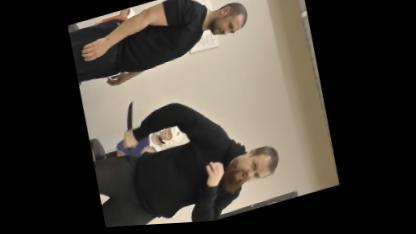knife: (114, 98, 148, 152)
